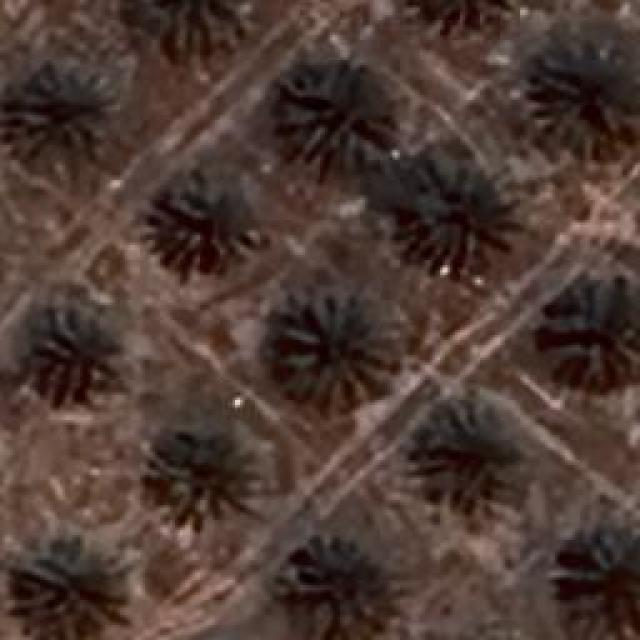PalmTree: (64, 13, 462, 109), (278, 54, 392, 168), (277, 290, 385, 410), (420, 402, 520, 522), (530, 40, 635, 150), (12, 542, 130, 638), (398, 160, 498, 270), (150, 428, 265, 522), (288, 538, 390, 638), (550, 274, 638, 388), (158, 178, 258, 268), (560, 528, 638, 638), (30, 312, 120, 406), (150, 0, 240, 52)
